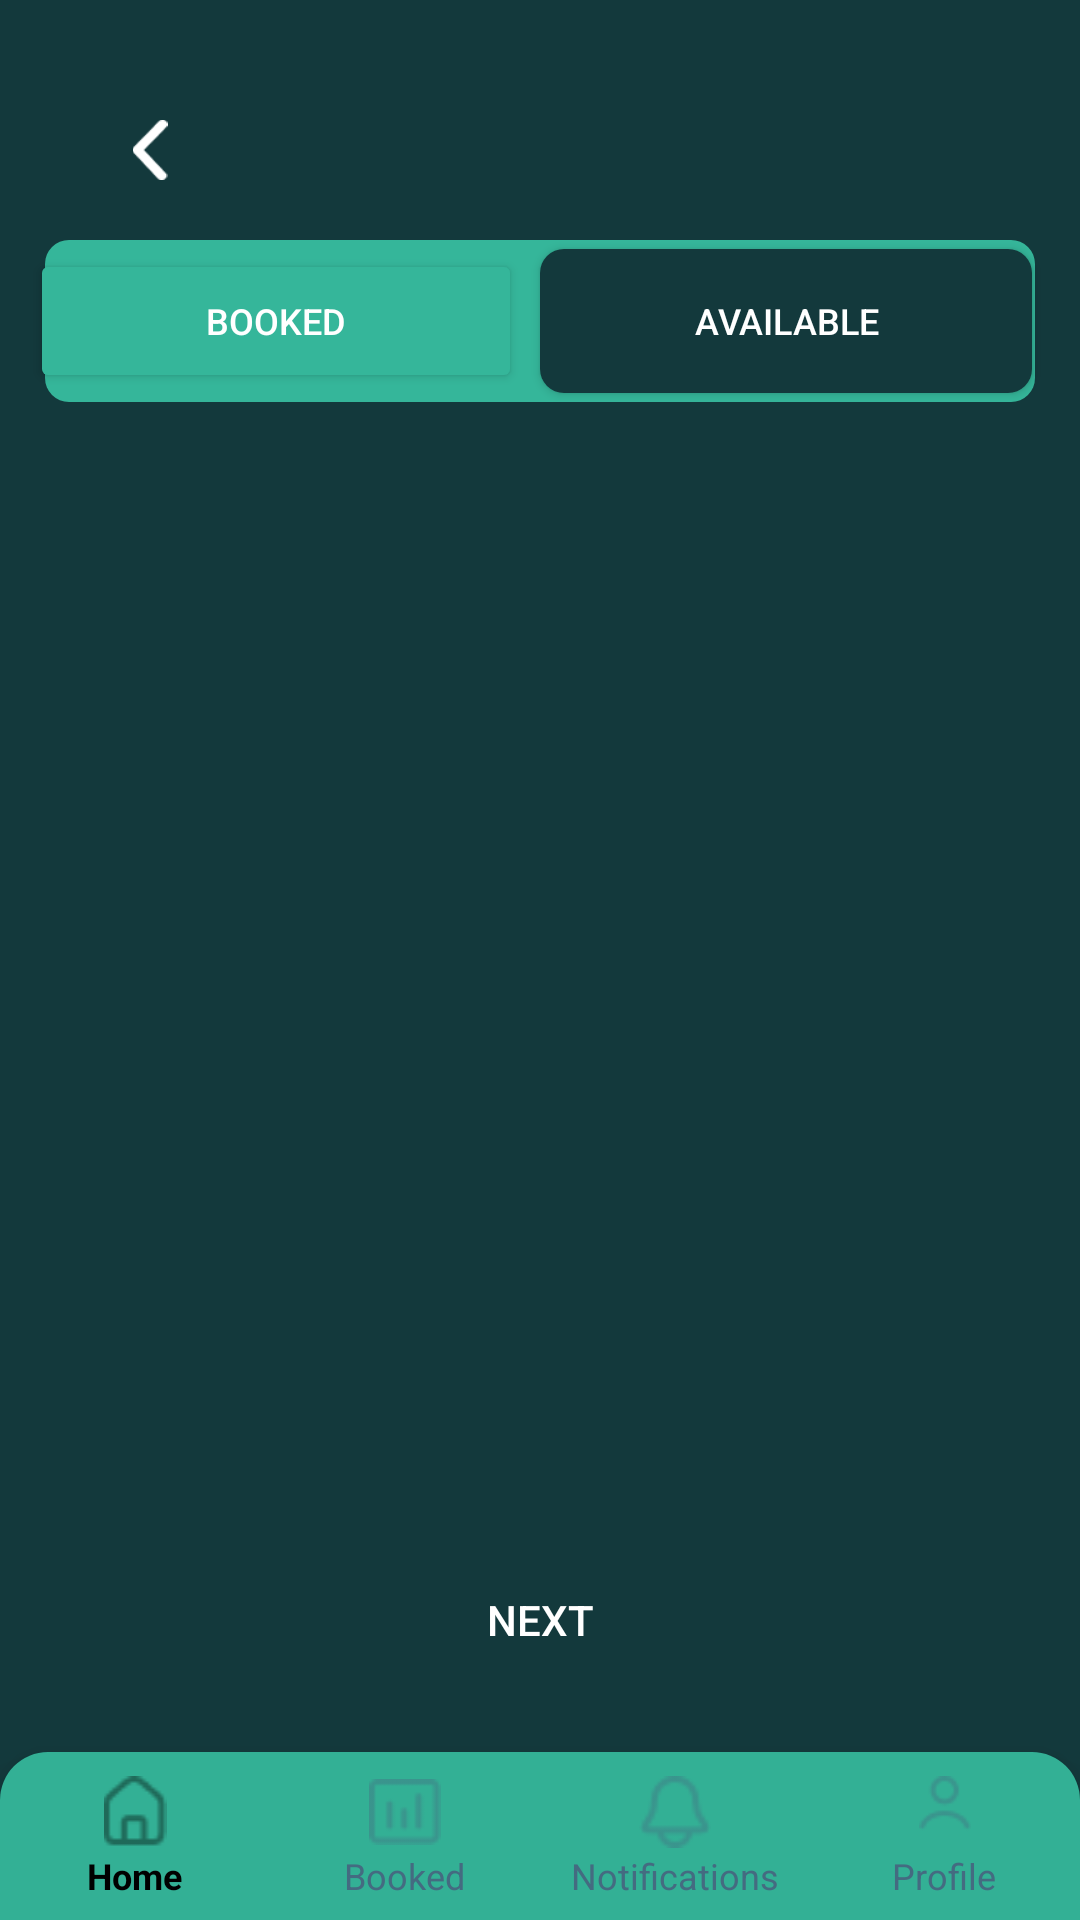

Where icons sit on this 1080w x 1920h app screen, as (x1, y1, x2, y2):
upscaledarrow: (133, 120, 168, 180)
